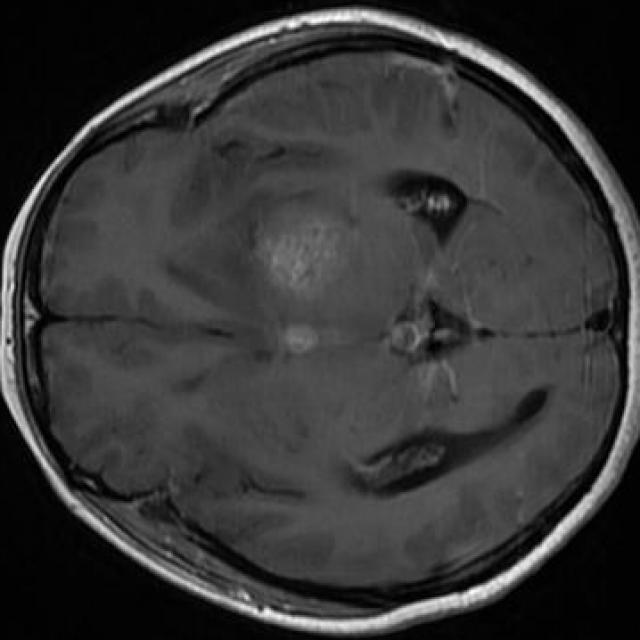glioma: (253, 212, 360, 351)
